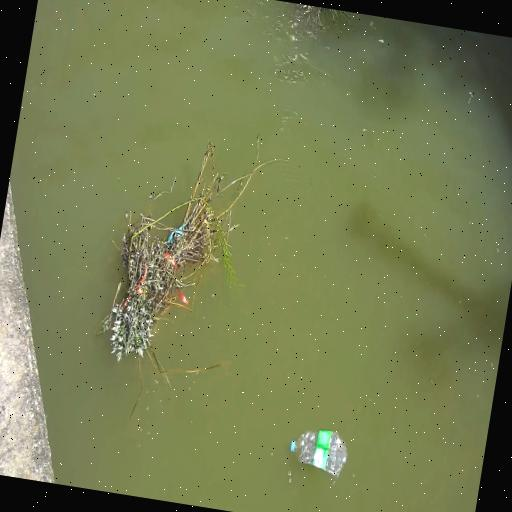plastic: (289, 430, 346, 476), (289, 440, 295, 452)
twig: (98, 134, 284, 373), (299, 4, 350, 26)
